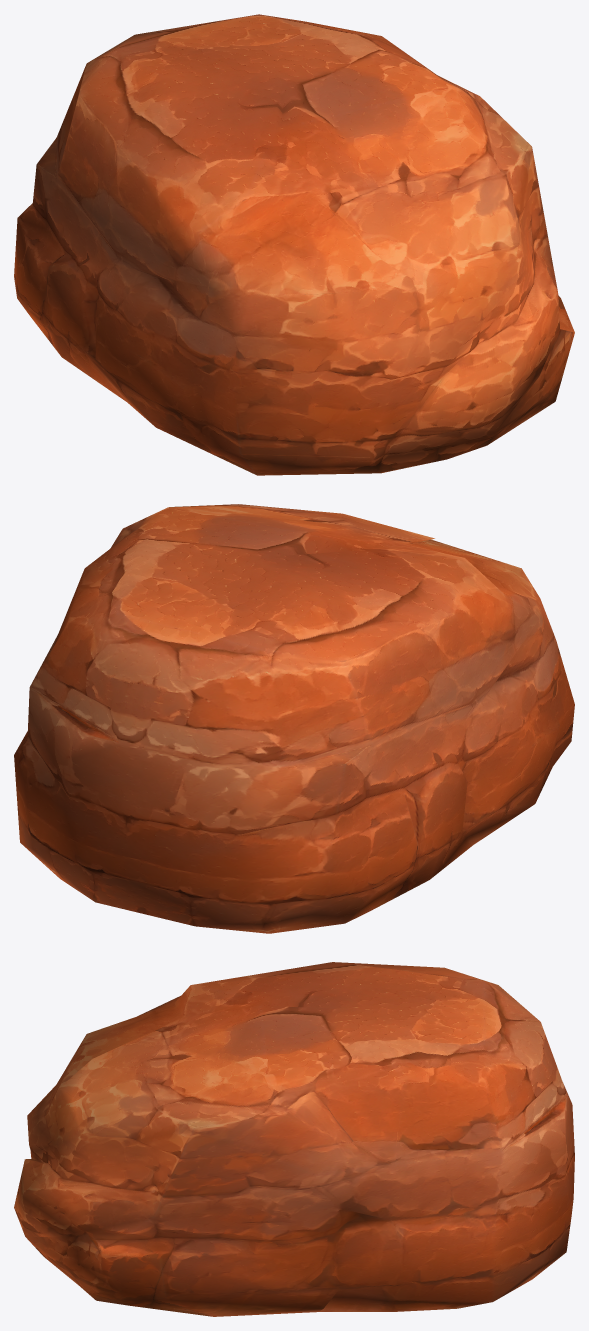
Rendered from Meshy_AI_Ember_Rock_0512182222_texture.fbx.
The picture shows the model from 3 angles, top to bottom: view 1: azimuth 30°, elevation 25°; view 2: azimuth 150°, elevation 25°; view 3: azimuth 270°, elevation 25°; orthographic projection. The views are drawn at different scales.
Parts seen in each view (by area): view 1: Mesh_0; view 2: Mesh_0; view 3: Mesh_0.
Part boxes in pixels (bbox=[...]): Mesh_0: bbox=[14, 14, 574, 475]; Mesh_0: bbox=[14, 504, 574, 933]; Mesh_0: bbox=[14, 962, 574, 1316].
Bounding box in the file's own units: 138 × 87.31 × 188.
1 material, 1 textured.
